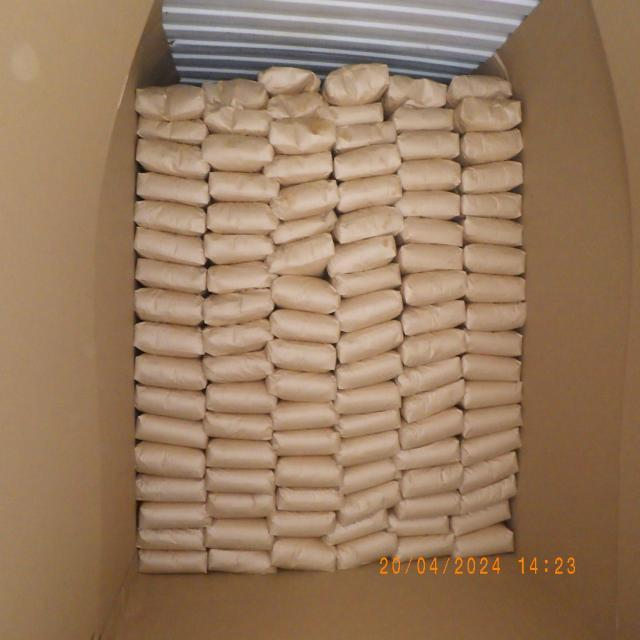gunny_bag: (336, 320, 404, 366), (136, 139, 212, 180), (334, 290, 402, 334), (322, 61, 390, 104), (266, 233, 334, 276), (134, 227, 207, 267), (270, 178, 338, 220), (329, 234, 397, 276), (134, 288, 205, 328), (396, 354, 463, 396), (134, 354, 208, 392), (134, 441, 207, 479), (135, 84, 208, 122), (333, 204, 404, 243), (134, 199, 208, 236), (136, 170, 212, 206), (202, 133, 274, 171), (270, 274, 342, 312), (203, 290, 276, 327), (134, 322, 205, 360), (404, 378, 466, 421), (134, 386, 208, 422), (136, 258, 208, 295), (204, 318, 274, 356), (452, 95, 523, 132), (398, 328, 467, 366), (398, 407, 463, 447), (136, 413, 208, 449), (334, 352, 402, 390), (268, 118, 336, 156), (336, 531, 398, 572), (207, 379, 279, 414), (270, 308, 342, 343), (337, 480, 400, 520), (206, 200, 280, 234), (402, 269, 470, 306), (332, 142, 400, 179), (337, 173, 402, 211), (264, 338, 336, 372), (458, 127, 524, 164), (461, 450, 518, 492), (264, 152, 334, 186), (206, 260, 276, 294), (330, 264, 400, 298), (206, 438, 278, 471), (266, 370, 338, 403), (324, 508, 390, 544), (402, 299, 466, 336), (270, 209, 337, 244), (334, 379, 401, 414), (460, 428, 521, 466), (206, 518, 274, 552), (272, 537, 338, 572), (209, 170, 281, 202), (205, 232, 276, 264), (204, 350, 275, 382), (275, 455, 343, 488), (453, 522, 515, 558), (459, 161, 524, 195), (399, 462, 464, 496), (134, 474, 207, 504), (336, 432, 400, 466), (334, 120, 398, 154), (463, 404, 523, 440), (452, 502, 512, 538), (340, 458, 400, 494), (270, 401, 339, 432), (205, 104, 274, 135), (398, 158, 462, 191), (394, 438, 460, 470), (204, 410, 274, 440), (138, 115, 210, 144), (386, 74, 449, 107), (137, 502, 211, 530), (460, 476, 517, 512), (463, 244, 526, 276), (203, 468, 274, 496), (395, 188, 461, 218), (448, 74, 514, 104), (398, 244, 464, 274), (336, 408, 402, 438), (274, 428, 342, 457), (395, 130, 460, 160), (465, 302, 527, 333), (394, 534, 456, 565), (200, 77, 266, 106), (206, 548, 274, 576), (270, 510, 338, 538), (465, 273, 526, 304), (400, 216, 465, 245), (267, 90, 334, 118), (462, 218, 524, 248), (208, 491, 276, 518), (462, 380, 523, 410), (395, 491, 462, 518), (141, 549, 210, 575), (461, 353, 522, 382), (274, 486, 342, 512), (460, 192, 523, 220), (258, 67, 320, 95), (392, 104, 457, 130), (138, 528, 207, 552), (464, 331, 522, 358), (326, 101, 384, 126), (390, 514, 450, 536)
